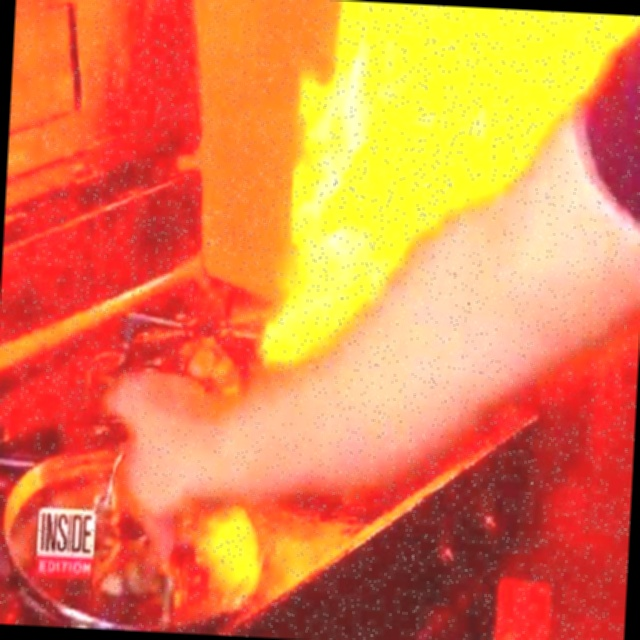fire: (264, 0, 594, 394)
